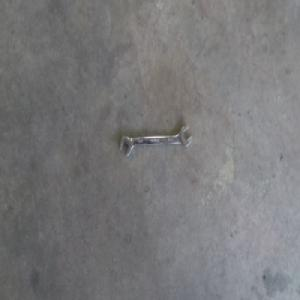Wrench: (120, 125, 191, 156)
